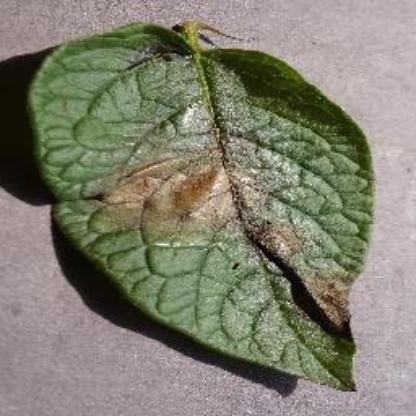Late-Blight: (20, 16, 390, 396)
